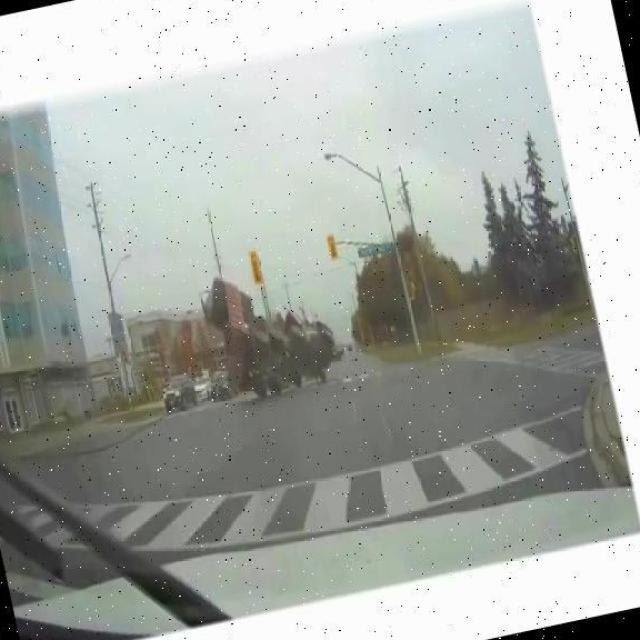accident: (196, 254, 346, 410)
